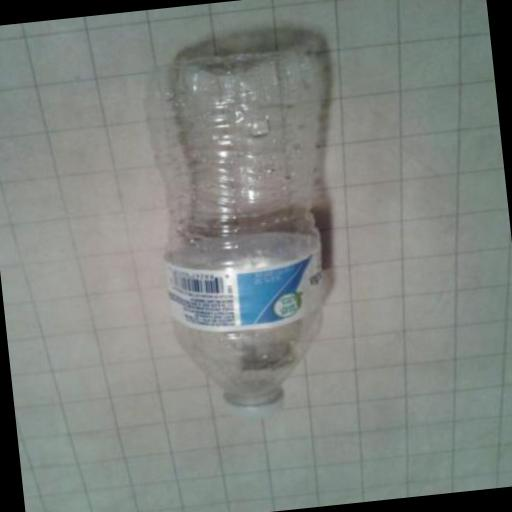Coca: (126, 24, 373, 439)
